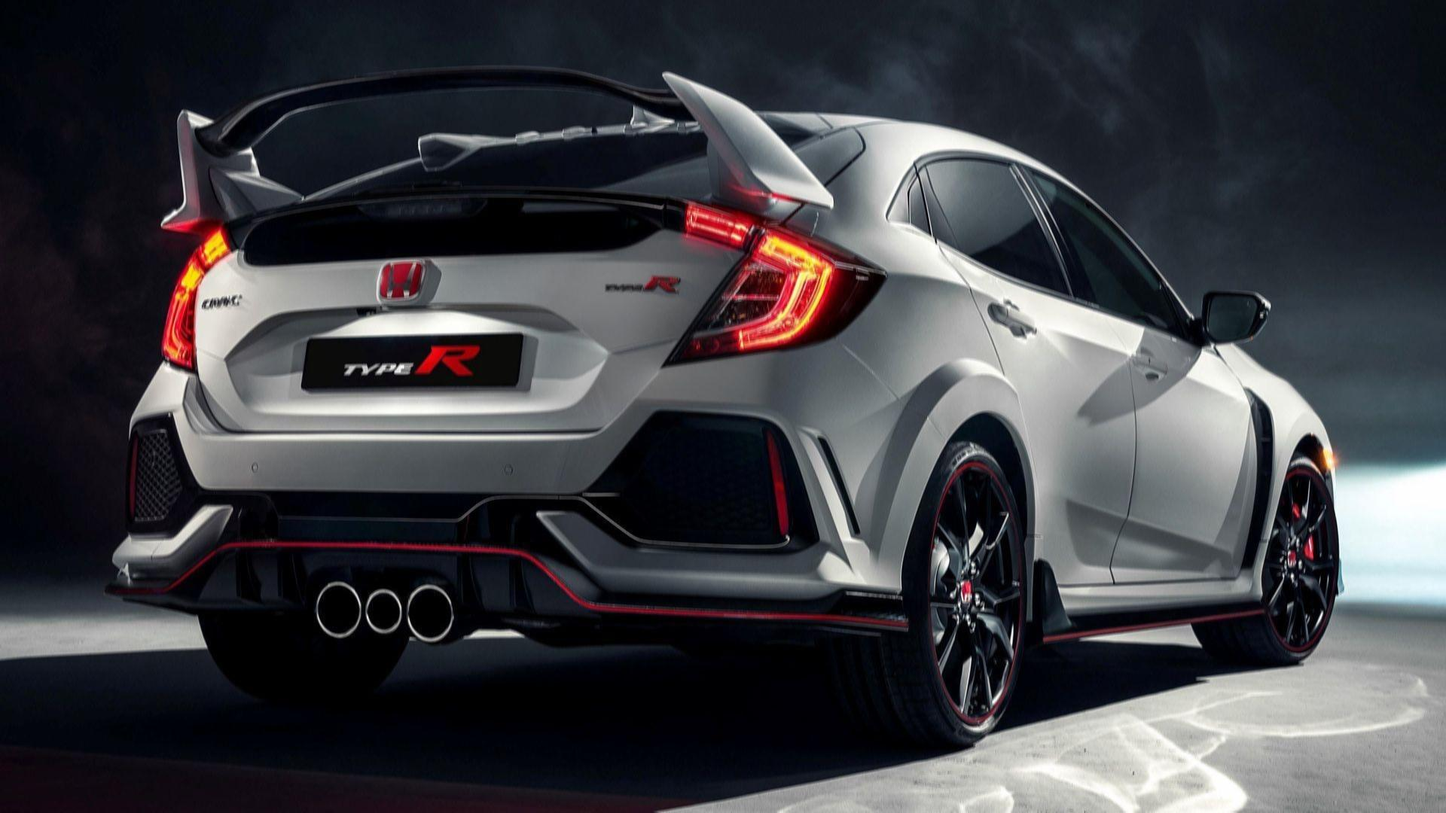Car boot: (153, 184, 774, 446)
Driver-s door - -F-R-: (1064, 156, 1283, 590)
Fender - -R-R-: (834, 188, 1059, 657)
Passenger-s door - -R-R-: (917, 123, 1133, 583)
Rear bumper: (98, 364, 934, 658)
Rear light - -L-: (148, 206, 254, 384)
Rear light - -R-: (649, 186, 891, 375)
Side bumper - -R-: (1025, 555, 1279, 653)
Side mirror - -R-: (1183, 276, 1286, 352)
